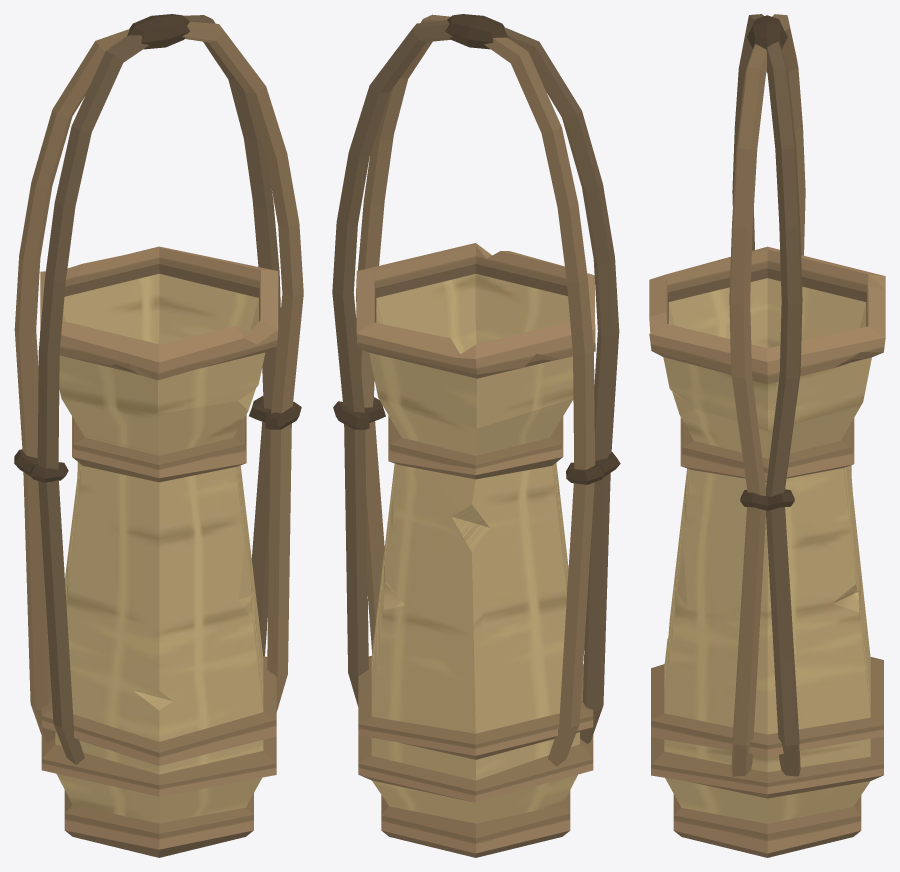
File: samurai_SM_Prop_Basket_04.gltf
3 views of the same model, side by side, from view 1: azimuth 30°, elevation 25°; view 2: azimuth 150°, elevation 25°; view 3: azimuth 270°, elevation 25° (orthographic).
Visible parts, largest first — view 1: SM_Prop_Basket_04; view 2: SM_Prop_Basket_04; view 3: SM_Prop_Basket_04.
Part boxes in pixels (x1,y1,x2,y2): SM_Prop_Basket_04: (14, 14, 303, 857); SM_Prop_Basket_04: (332, 14, 620, 857); SM_Prop_Basket_04: (649, 14, 885, 857).
Size of the model in its own units: 0.3963 by 1.12 by 0.3014.
Materials: 1 (1 with a texture image).
